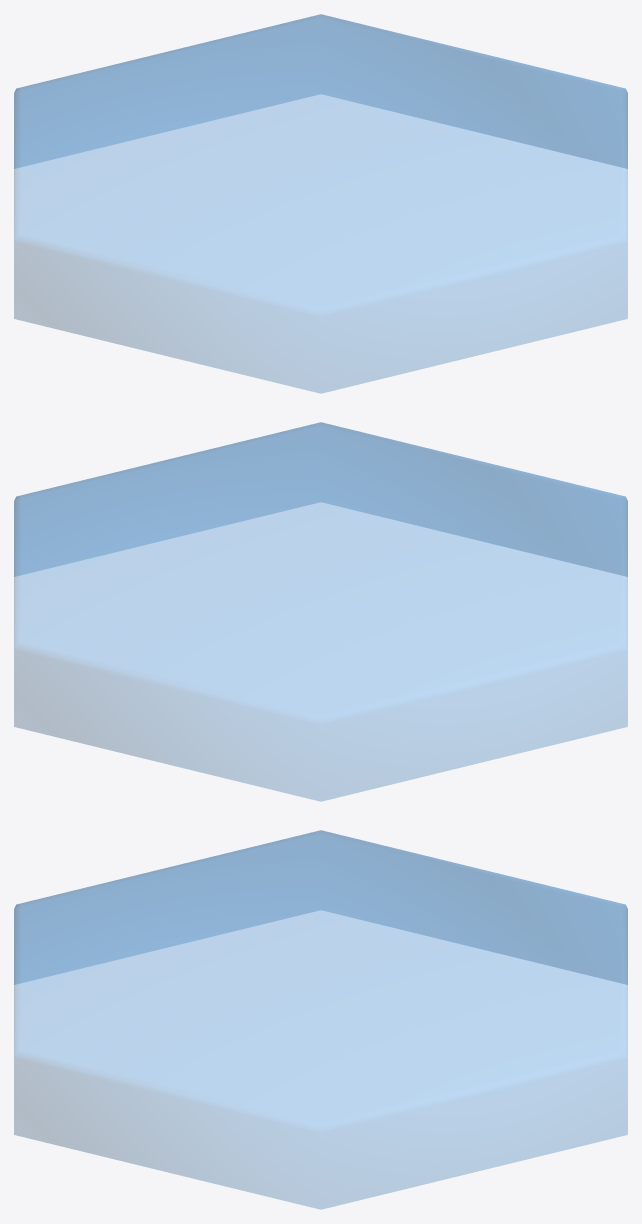
Rendered from water_full.glb.
3 views of the same model, one above another, from view 1: azimuth 30°, elevation 25°; view 2: azimuth 150°, elevation 25°; view 3: azimuth 270°, elevation 25° (orthographic).
Parts seen in each view (by area): view 1: Water_Full.001; view 2: Water_Full.001; view 3: Water_Full.001.
Boxes of the visible parts, x1=… form: Water_Full.001: x1=14, y1=14, x2=627, y2=393; Water_Full.001: x1=14, y1=422, x2=627, y2=801; Water_Full.001: x1=14, y1=830, x2=627, y2=1209.
Size of the model in its own units: 1.16 by 0.15 by 1.
